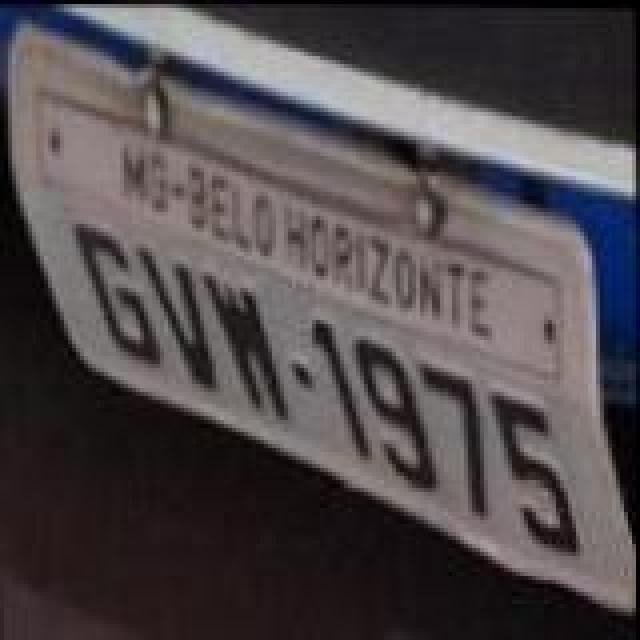1: (312, 318, 376, 466)
5: (490, 390, 582, 558)
7: (420, 360, 492, 520)
9: (352, 330, 440, 490)
G: (72, 226, 164, 370)
V: (134, 240, 222, 392)
W: (200, 270, 292, 426)
